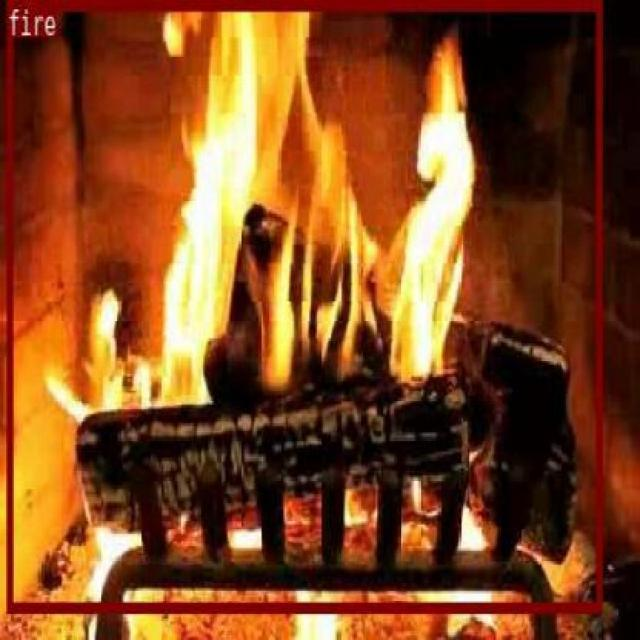Fire: (6, 0, 600, 612)
